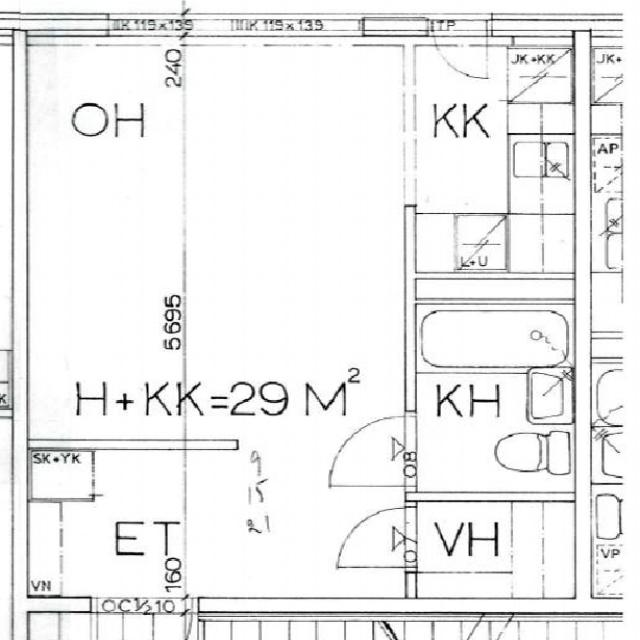door: (330, 416, 417, 486), (341, 507, 417, 567), (433, 13, 488, 86)
